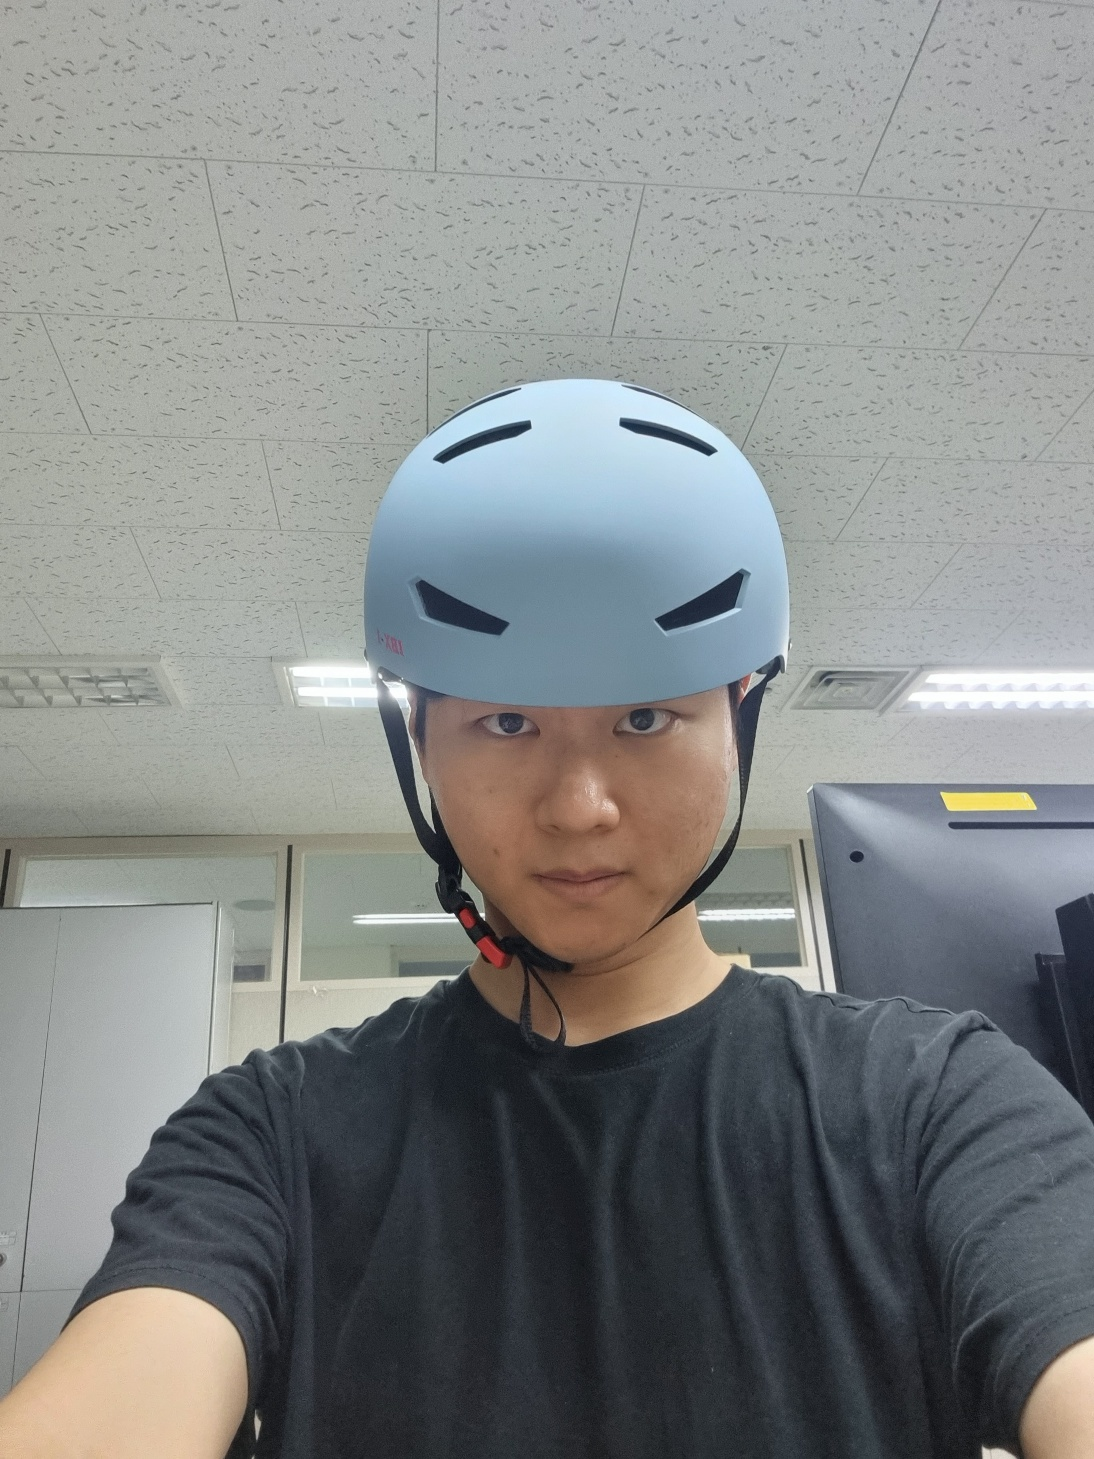Helmet: (328, 337, 810, 1019)
